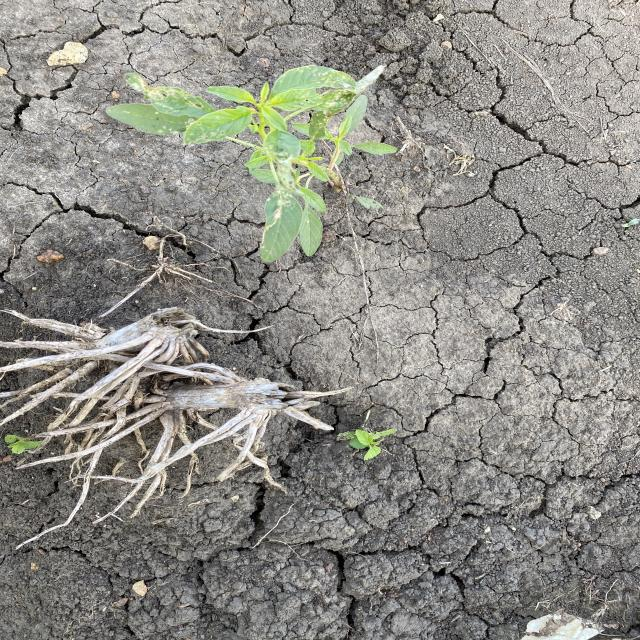PricklySida: (336, 425, 399, 462), (2, 434, 46, 455)
Waterhemp: (103, 62, 399, 266)
